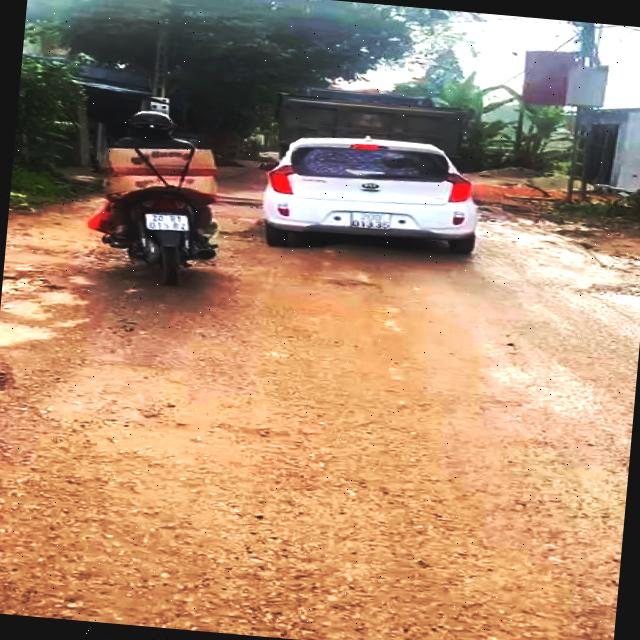pothole: (1, 265, 72, 306), (0, 349, 33, 418), (577, 277, 640, 312)
